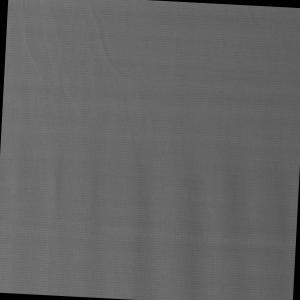Wrinkle: (1, 128, 300, 300)
